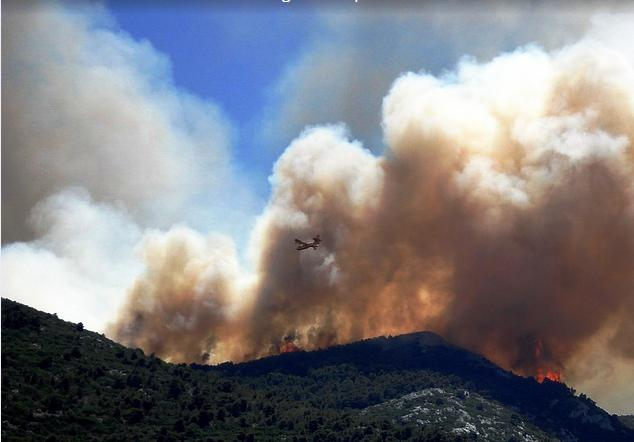fire: (518, 359, 576, 394), (262, 333, 313, 366)
smoke: (71, 81, 634, 389)
